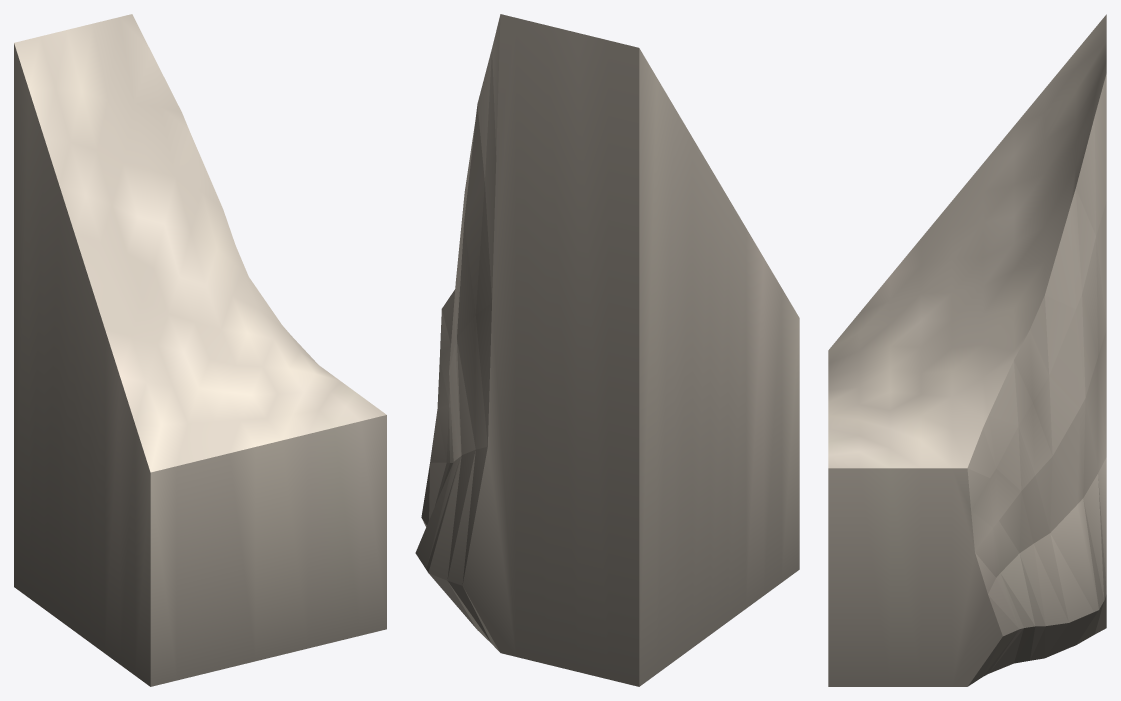
File: SM_VKI_Rock_Cave_CCOF_B.fbx
The picture shows the model from 3 angles, left to right: view 1: azimuth 30°, elevation 25°; view 2: azimuth 150°, elevation 25°; view 3: azimuth 270°, elevation 25°; orthographic projection. The views are drawn at different scales.
Visible parts, largest first — view 1: SM_VKI_Rock_Cave_CCOF_B.001; view 2: SM_VKI_Rock_Cave_CCOF_B.001; view 3: SM_VKI_Rock_Cave_CCOF_B.001.
Boxes of the visible parts, x1,y1,x2,y2 form: SM_VKI_Rock_Cave_CCOF_B.001: (14, 14, 386, 686); SM_VKI_Rock_Cave_CCOF_B.001: (415, 14, 799, 686); SM_VKI_Rock_Cave_CCOF_B.001: (828, 14, 1106, 686).
Bounding box in the file's own units: 1.5 × 3.3 × 1.5.
